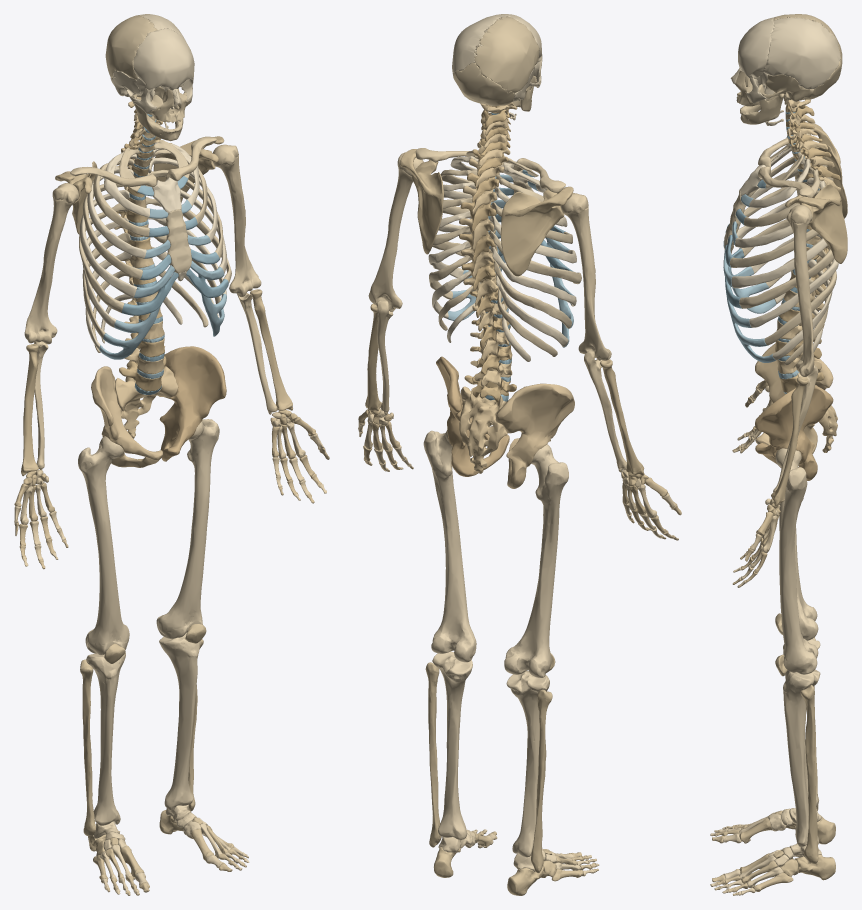
The model's file is skeleton.glb.
The picture shows the model from 3 angles, left to right: view 1: azimuth 30°, elevation 25°; view 2: azimuth 150°, elevation 25°; view 3: azimuth 270°, elevation 25°; orthographic projection. The views are drawn at different scales.
Visible parts, largest first — view 1: right-femur, left-femur, left-hip-bone, left-tibia, frontal-bone, right-tibia, right-humerus, left-humerus, right-hip-bone, right-parietal-bone, sacrum, right-fibula (+19 smaller); view 2: right-femur, left-femur, right-hip-bone, right-scapula, right-parietal-bone, left-tibia, right-tibia, right-humerus, sacrum, left-humerus, left-scapula, left-hip-bone (+15 smaller); view 3: left-femur, left-parietal-bone, left-hip-bone, left-tibia, left-humerus, left-scapula, left-fibula, frontal-bone, right-hip-bone, left-radius, right-femur, left-seventh-rib (+27 smaller).
Boxes of the visible parts, x1=… form: right-femur: x1=78, y1=436, x2=129, y2=655; left-femur: x1=156, y1=419, x2=219, y2=638; left-hip-bone: x1=159, y1=346, x2=226, y2=461; left-tibia: x1=159, y1=632, x2=201, y2=810; frontal-bone: x1=133, y1=28, x2=194, y2=91; right-tibia: x1=86, y1=652, x2=125, y2=825; right-humerus: x1=24, y1=183, x2=78, y2=344; left-humerus: x1=212, y1=144, x2=261, y2=297; right-hip-bone: x1=91, y1=366, x2=162, y2=467; right-parietal-bone: x1=105, y1=15, x2=157, y2=79; sacrum: x1=115, y1=366, x2=178, y2=438; right-fibula: x1=80, y1=659, x2=95, y2=835; right-femur: x1=504, y1=444, x2=568, y2=677; left-femur: x1=423, y1=430, x2=476, y2=662; right-hip-bone: x1=495, y1=383, x2=574, y2=488; right-scapula: x1=501, y1=186, x2=573, y2=276; right-parietal-bone: x1=474, y1=16, x2=539, y2=92; left-tibia: x1=432, y1=651, x2=472, y2=839; right-tibia: x1=506, y1=671, x2=549, y2=857; right-humerus: x1=561, y1=193, x2=611, y2=360; sacrum: x1=459, y1=386, x2=507, y2=473; left-humerus: x1=368, y1=152, x2=423, y2=311; left-scapula: x1=400, y1=149, x2=443, y2=254; left-hip-bone: x1=436, y1=356, x2=509, y2=476; left-femur: x1=775, y1=448, x2=818, y2=674; left-parietal-bone: x1=763, y1=17, x2=840, y2=89; left-hip-bone: x1=755, y1=385, x2=833, y2=480; left-tibia: x1=783, y1=669, x2=820, y2=846; left-humerus: x1=786, y1=205, x2=814, y2=376; left-scapula: x1=785, y1=183, x2=847, y2=263; left-fibula: x1=800, y1=685, x2=818, y2=863; frontal-bone: x1=738, y1=17, x2=774, y2=78; right-hip-bone: x1=755, y1=343, x2=833, y2=453; left-radius: x1=771, y1=376, x2=808, y2=506; right-femur: x1=779, y1=497, x2=818, y2=640; left-seventh-rib: x1=739, y1=249, x2=834, y2=308.
Bounding box in the file's own units: 1.62 × 4.11 × 0.6054.
